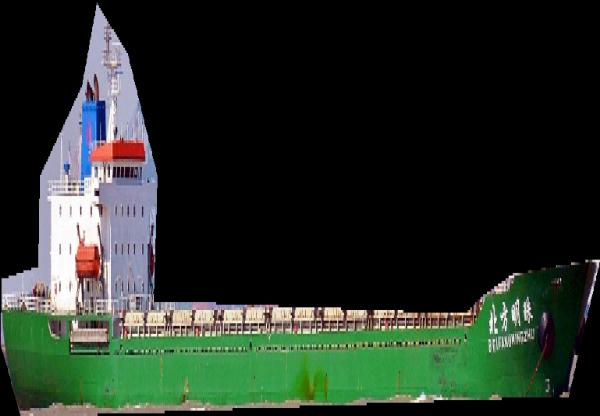Bulkers: (0, 2, 600, 416)
